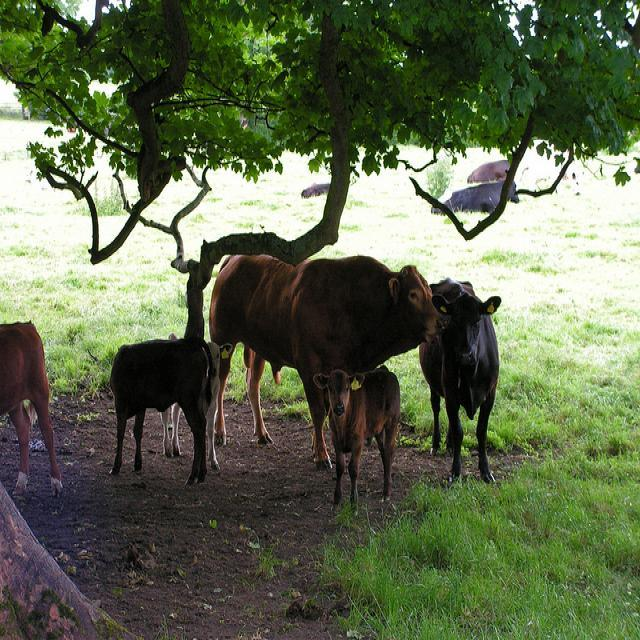cow: (206, 252, 447, 469), (416, 276, 501, 481), (112, 333, 213, 484), (312, 363, 399, 515), (0, 318, 59, 494), (430, 179, 518, 212), (465, 157, 506, 179)
